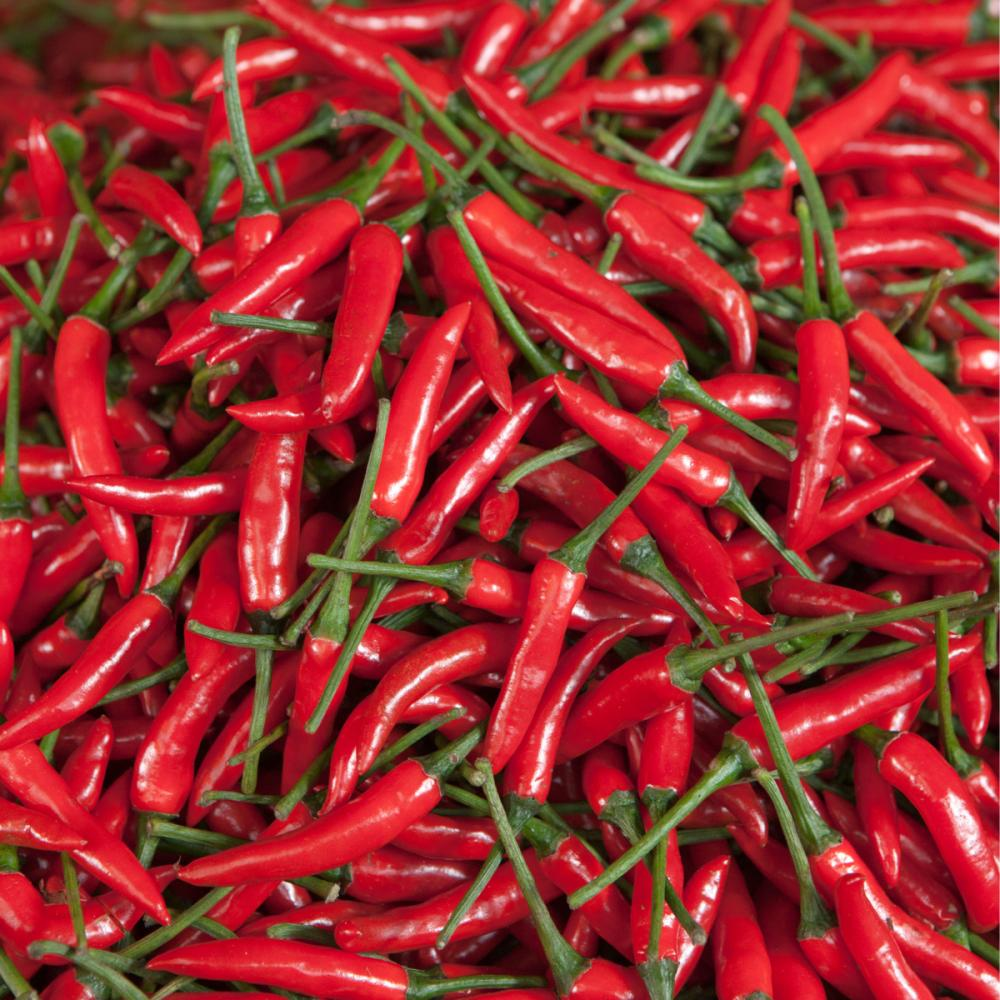chilli pepper: (1, 0, 997, 998), (173, 756, 443, 888)
